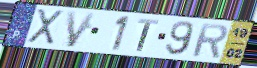1: (111, 15, 132, 52)
9: (164, 20, 196, 57)
R: (191, 22, 229, 60)
T: (136, 17, 160, 53)
V: (66, 10, 99, 49)
X: (26, 8, 65, 46)
